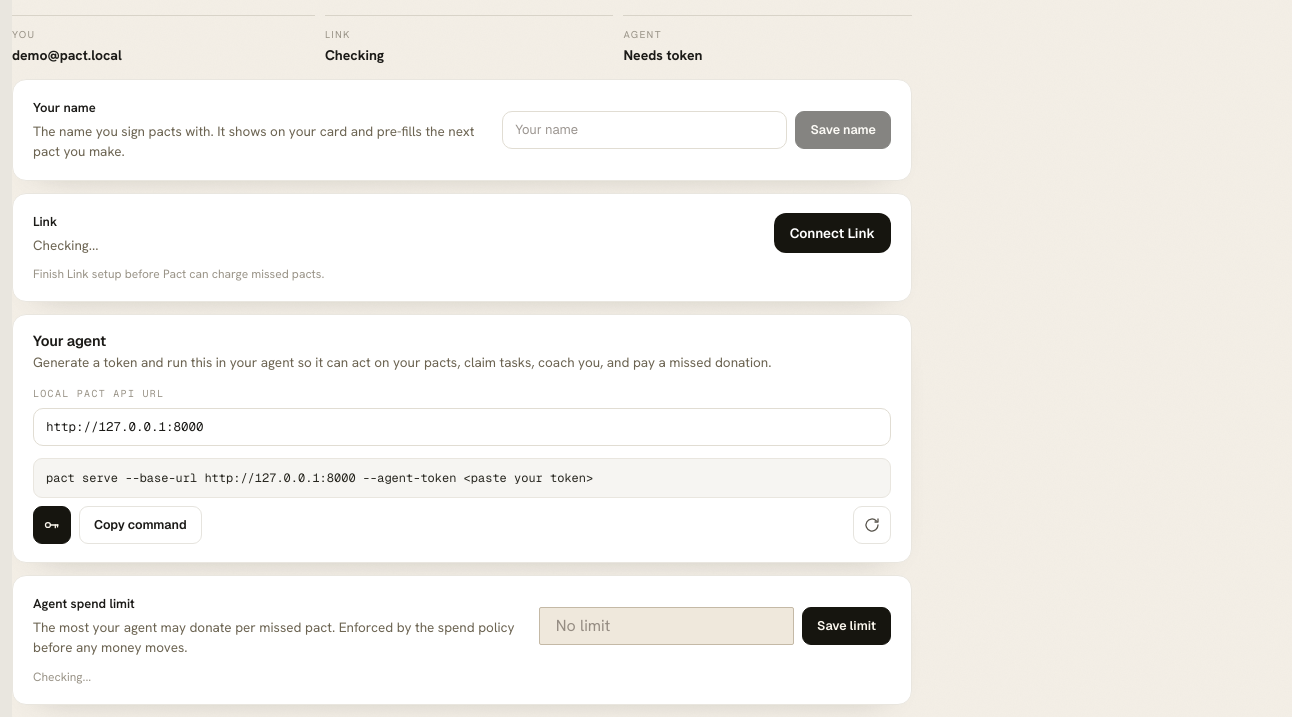
Test: Settings › saves the agent spend limit in cents and updates the copy
(page scrolled)
Type "12.50" into the number field named "agent spend limit".
click(666, 626); type("12.50")  # box [539,607,794,645]
(page scrolled)
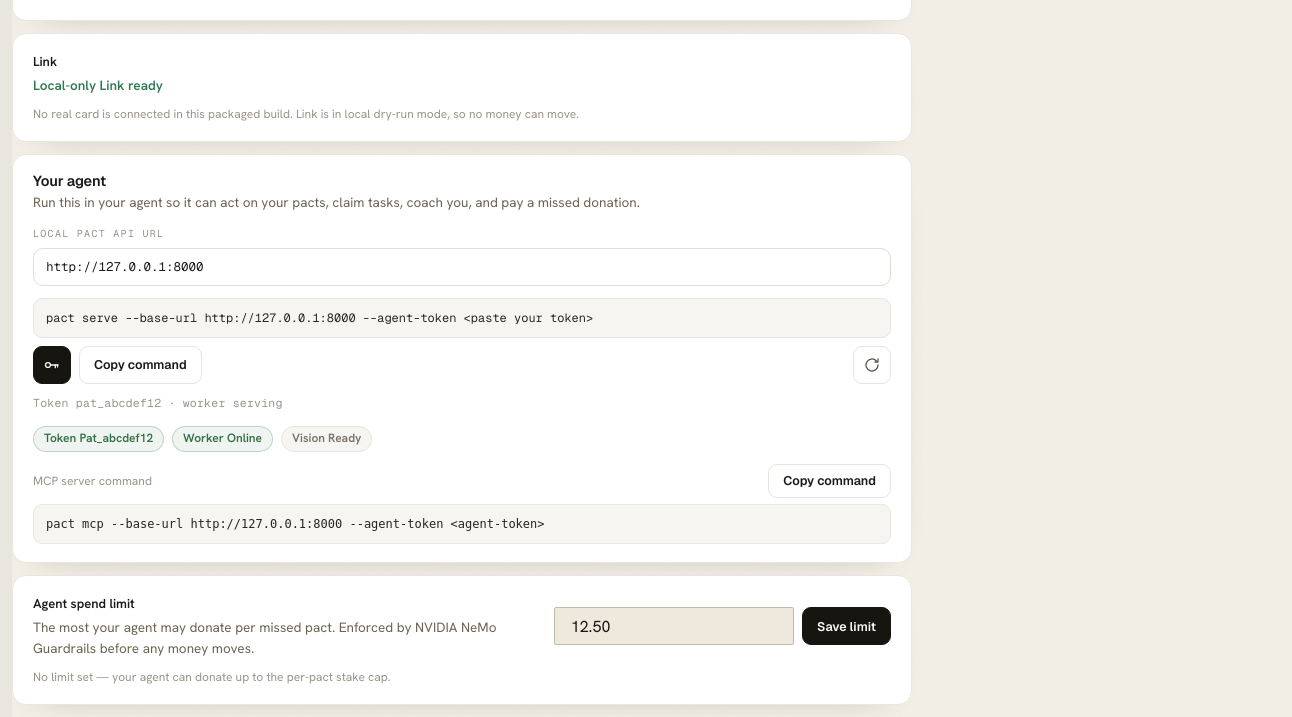
Click the button "Save limit".
click(846, 626)  # box [802,607,891,645]
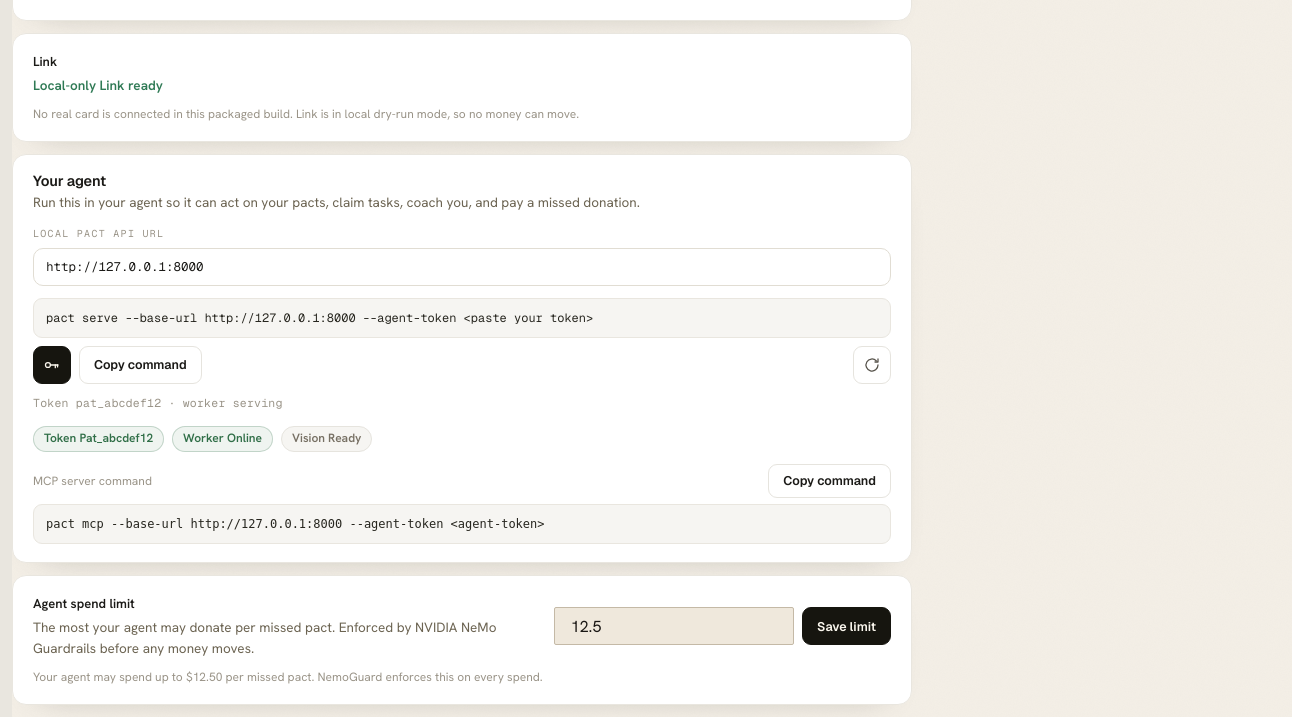
Check: the text "NemoGuard enforces this on every spend" is shown, box [33,669,543,685]
